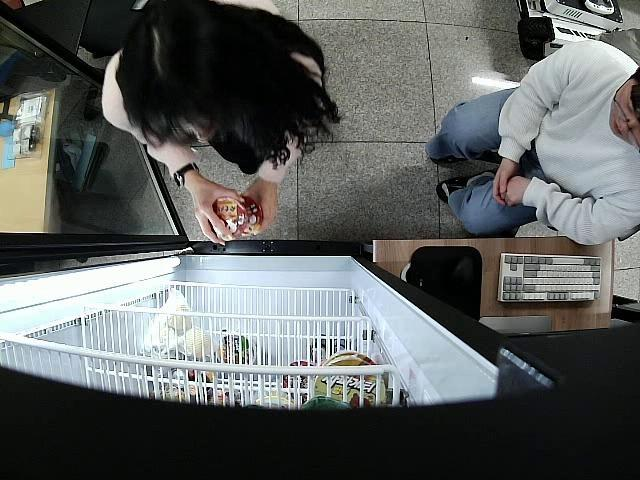06_nuguri_S: (205, 196, 248, 240), (242, 196, 263, 235)
